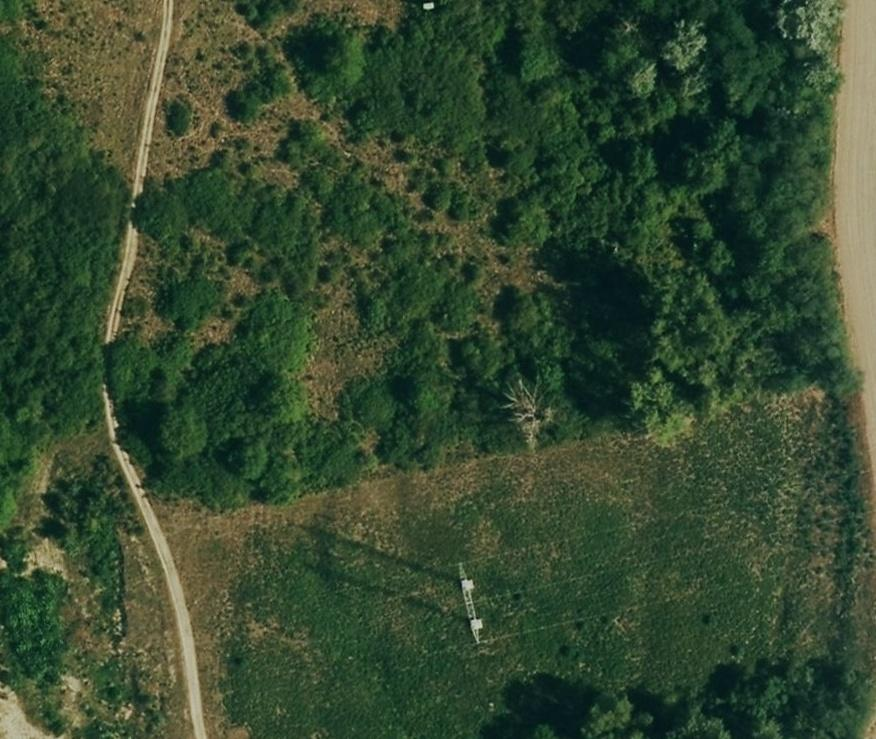field: (166, 390, 874, 737)
forest: (137, 0, 854, 505), (0, 36, 127, 526)
